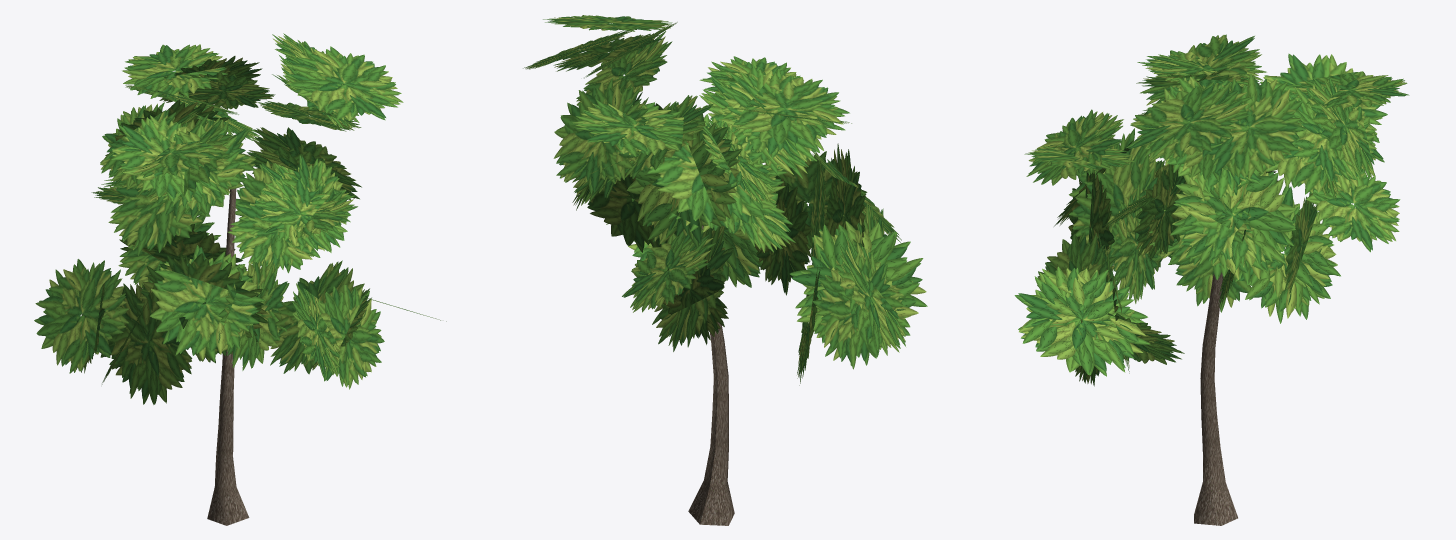
File: arvore_bl_c_lo.glb
The picture shows the model from 3 angles, left to right: view 1: azimuth 30°, elevation 25°; view 2: azimuth 150°, elevation 25°; view 3: azimuth 270°, elevation 25°; orthographic projection. The views are drawn at different scales.
Parts seen in each view (by area): view 1: arvore_bl_c_lo; view 2: arvore_bl_c_lo; view 3: arvore_bl_c_lo.
Boxes of the visible parts, bbox=[...] form: arvore_bl_c_lo: bbox=[34, 33, 446, 525]; arvore_bl_c_lo: bbox=[523, 15, 927, 525]; arvore_bl_c_lo: bbox=[1014, 34, 1409, 525].
Size of the model in its own units: 8.87 by 10.23 by 8.76.
Materials: 2 (2 with a texture image).
